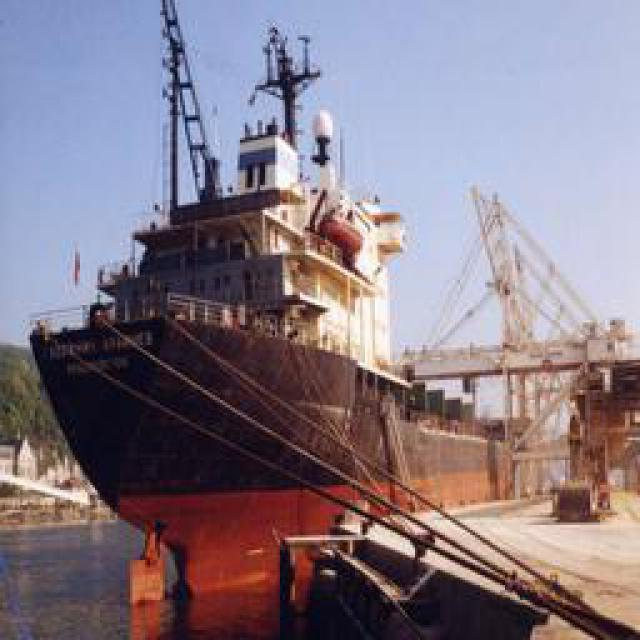Ship: (41, 1, 442, 594)
